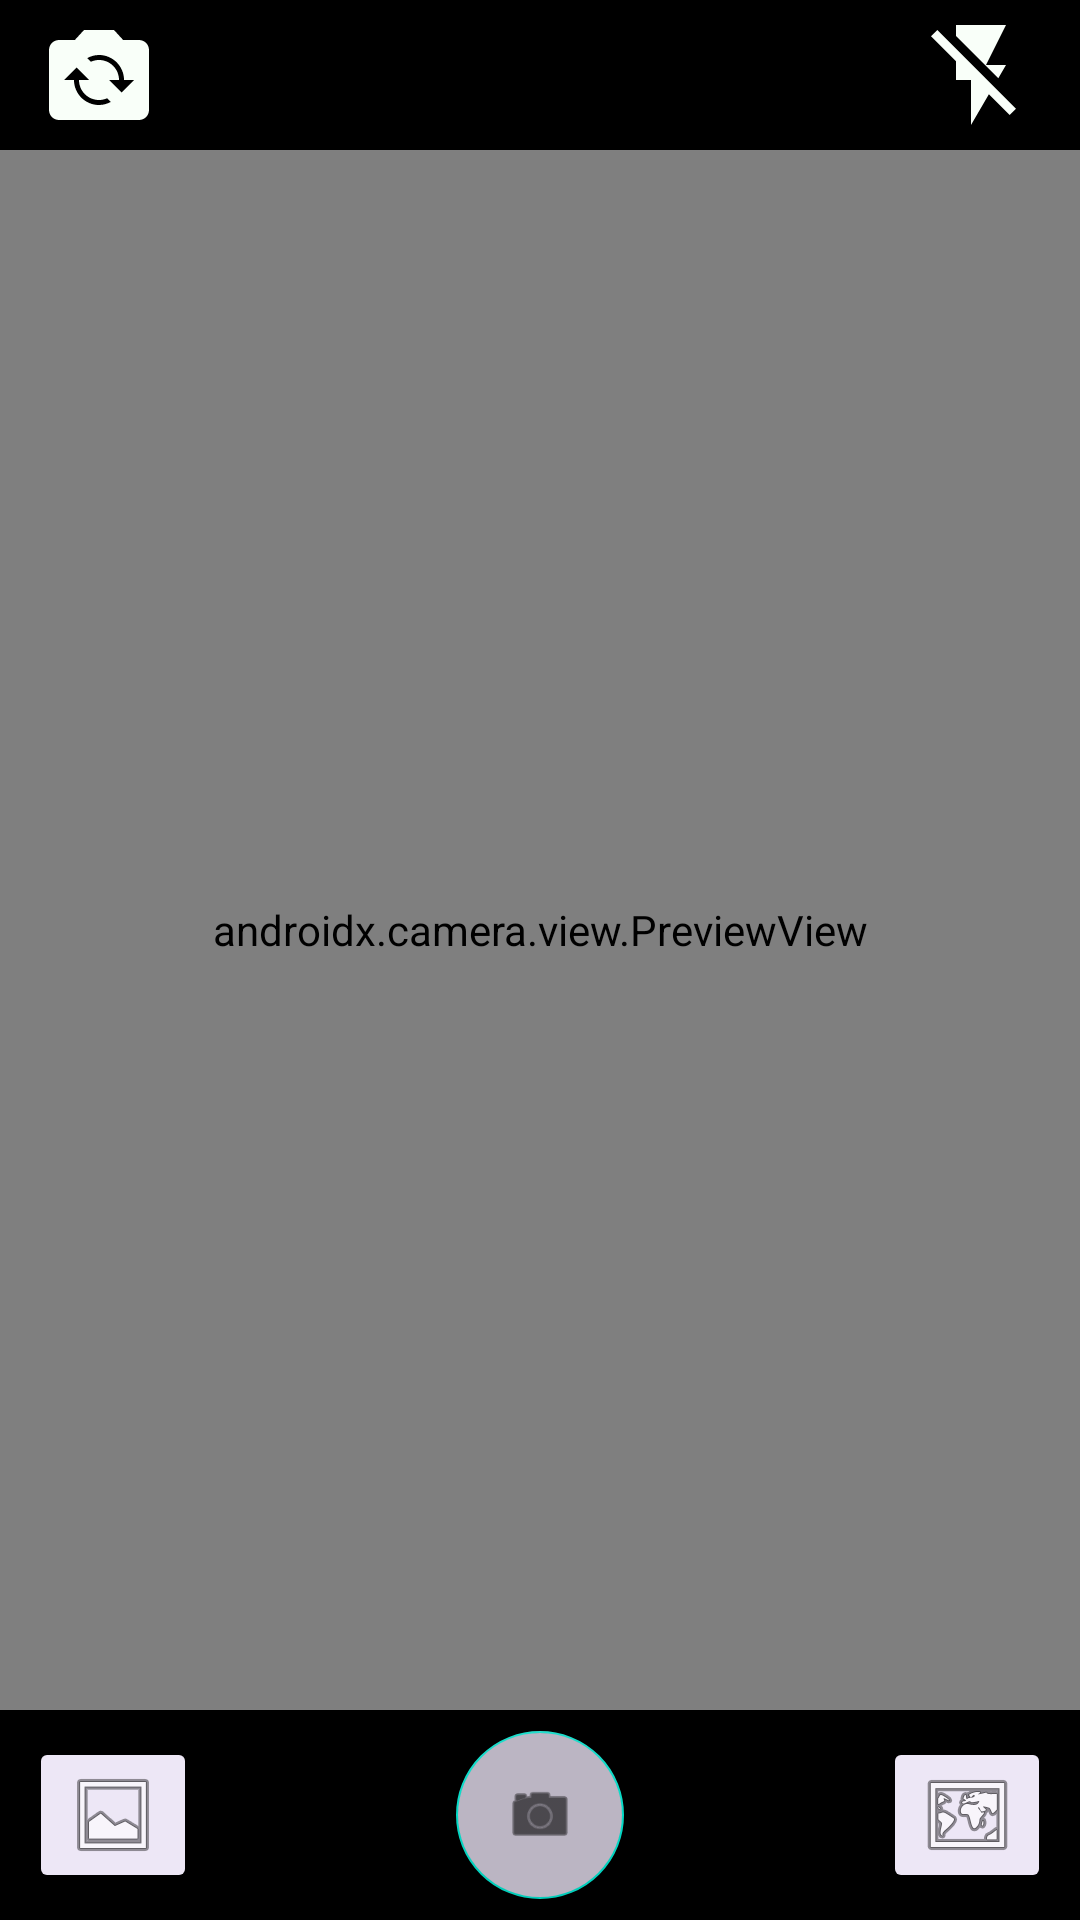

Icons on this 1080px x 1920px Android screen, each with its box as (x1, y1, x2, y2):
Capture Button: (456, 1731, 624, 1899)
Open Gallery: (41, 1755, 185, 1875)
Open Map: (895, 1755, 1039, 1875)
